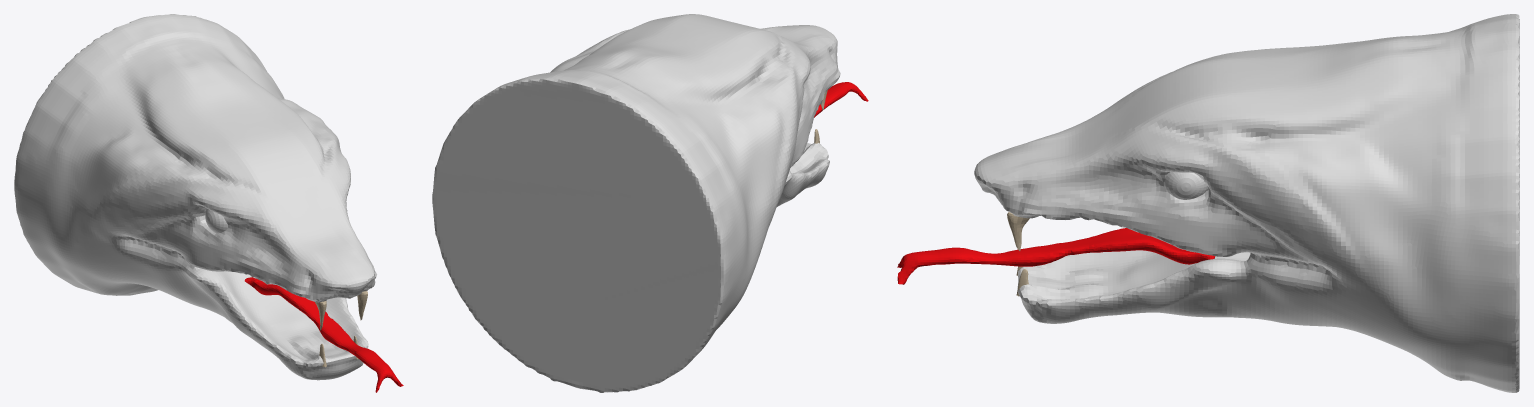
File: snekbullet_6.fbx
3 renders of one model, left to right at view 1: azimuth 30°, elevation 25°; view 2: azimuth 150°, elevation 25°; view 3: azimuth 270°, elevation 25°, orthographic. The views are drawn at different scales.
Visible parts, largest first — view 1: Snake_head, Tongue, Eyes, Teeth; view 2: Snake_head, Tongue; view 3: Snake_head, Tongue, Eyes.
Boxes of the visible parts, box(x1,y1,x2,y2) form: Snake_head: box(14, 14, 376, 380); Tongue: box(244, 277, 403, 392); Eyes: box(205, 208, 227, 233); Teeth: box(315, 291, 367, 330); Snake_head: box(432, 14, 840, 392); Tongue: box(814, 82, 868, 117); Snake_head: box(974, 14, 1519, 392); Tongue: box(897, 228, 1215, 284); Eyes: box(1164, 172, 1208, 199).
Bounding box in the file's own units: 200 × 199 × 327.
